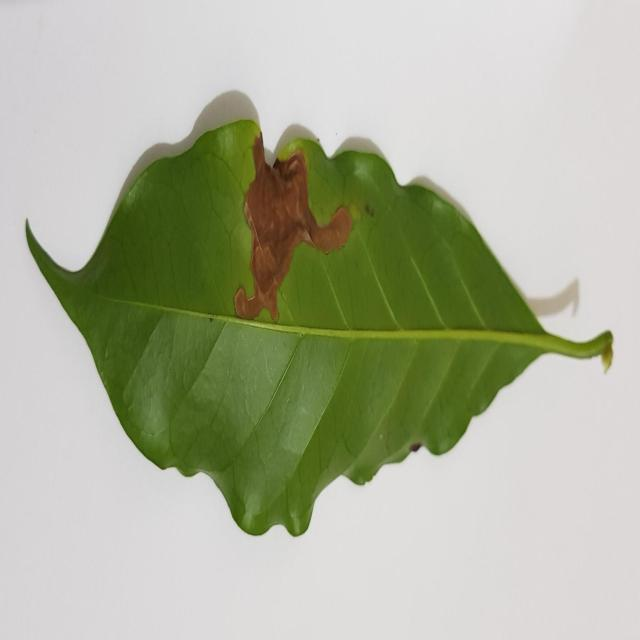Plaga-Minador: (23, 118, 615, 539)
